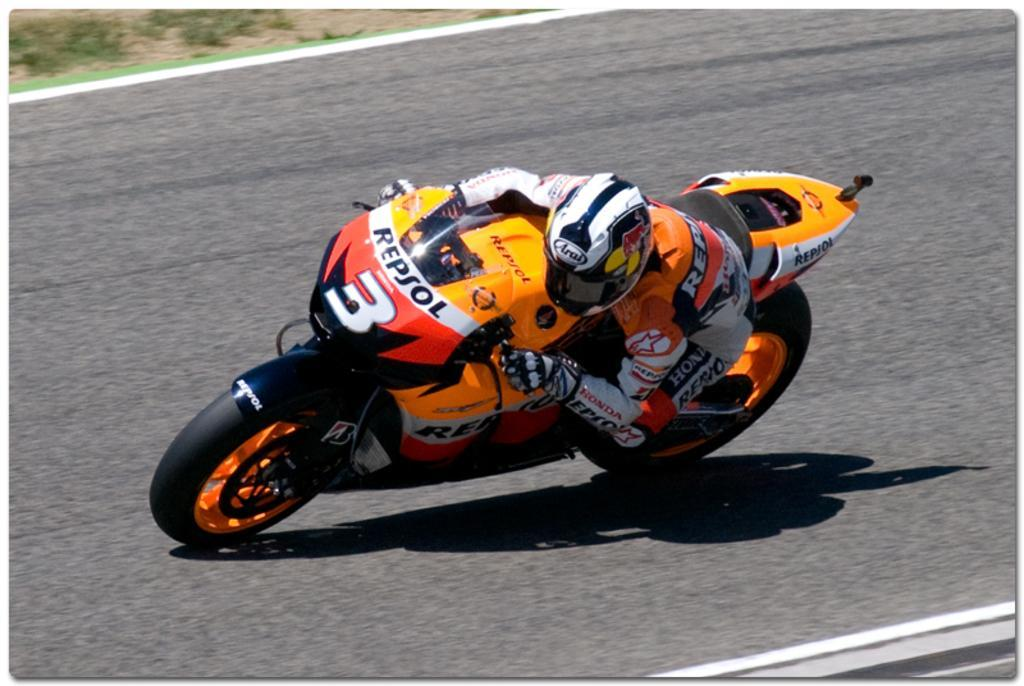helmet: (542, 172, 655, 318)
